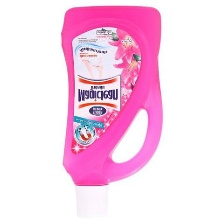cleaning_solution: (58, 2, 164, 221)
